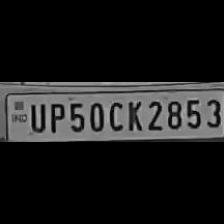0: (86, 98, 104, 132)
2: (144, 96, 162, 132)
3: (202, 96, 222, 128)
5: (65, 99, 84, 133), (183, 96, 201, 128)
8: (164, 96, 182, 130)
C: (105, 98, 124, 132)
K: (123, 97, 143, 132)
P: (46, 100, 64, 134)
U: (27, 100, 46, 132)
